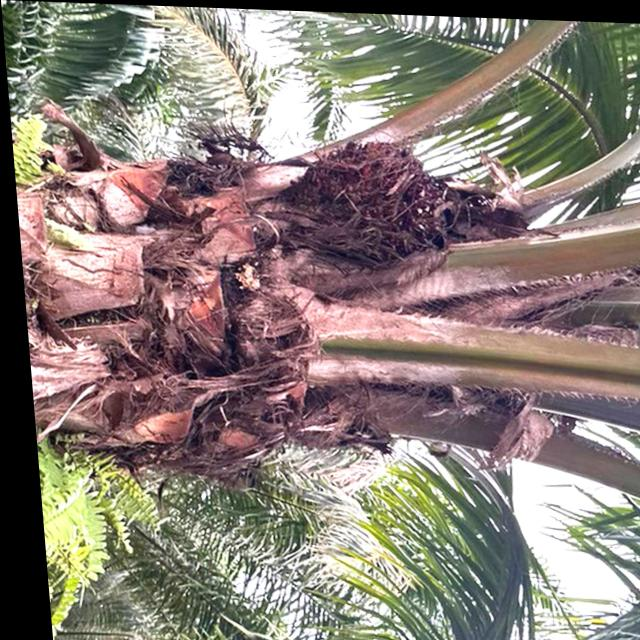ripe: (266, 123, 468, 281)
